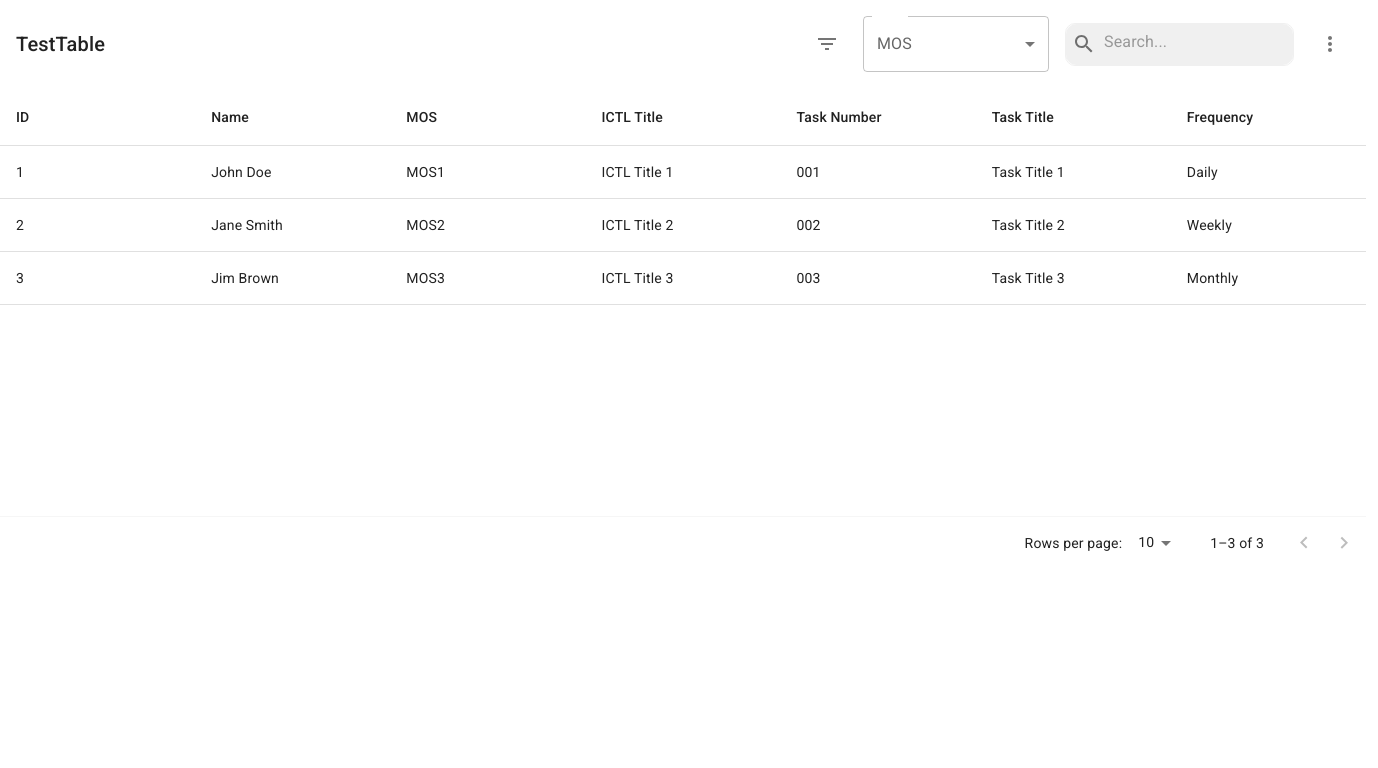
Test case: AmtpTable Component › filters data based on query
In the field with placeholder "Search...": [1196, 44] box left=1104, top=30, right=1287, bottom=58, type "Jane"
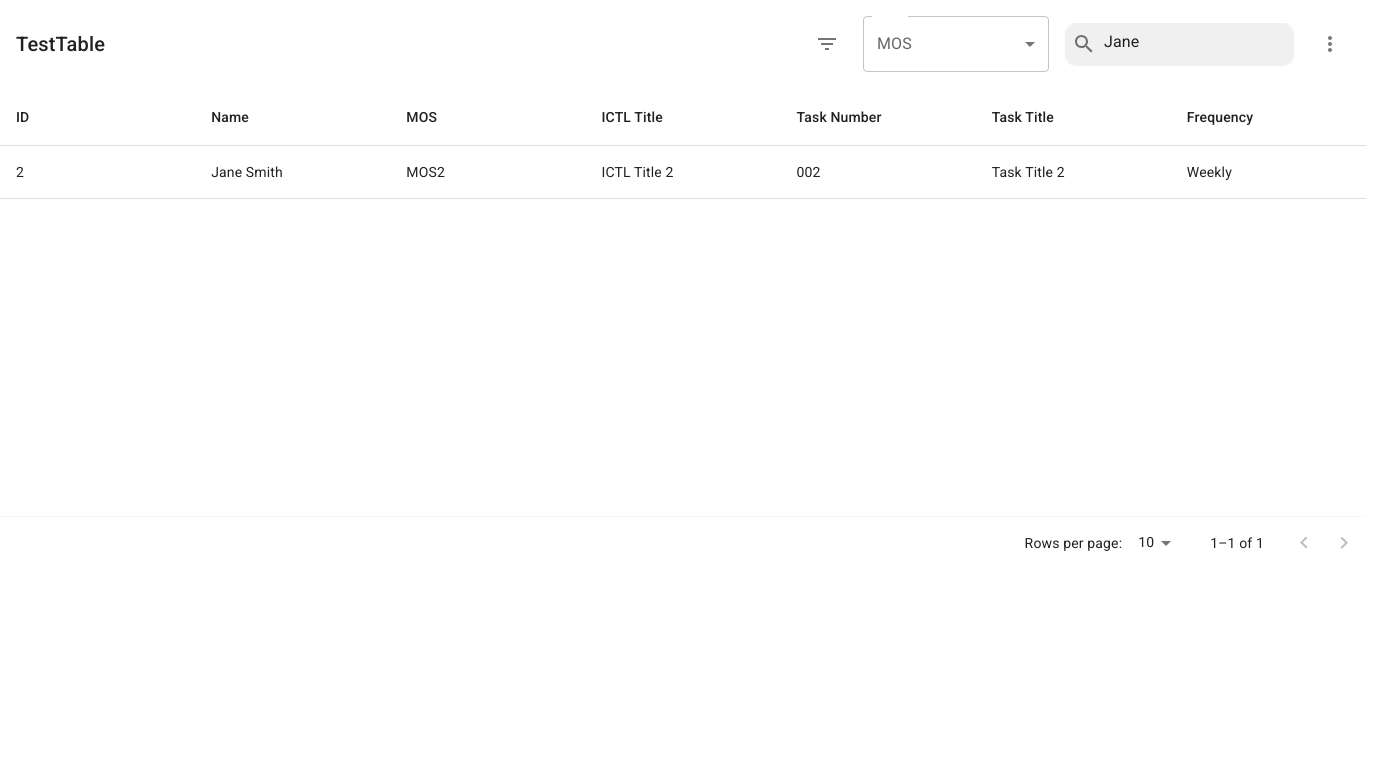
Check: the text "Jane Smith" is shown, box left=211, top=164, right=283, bottom=180
Check: the number of rows is 2, box left=0, top=88, right=1366, bottom=146; left=0, top=146, right=1366, bottom=199
Check: the text "John Doe" is gone
